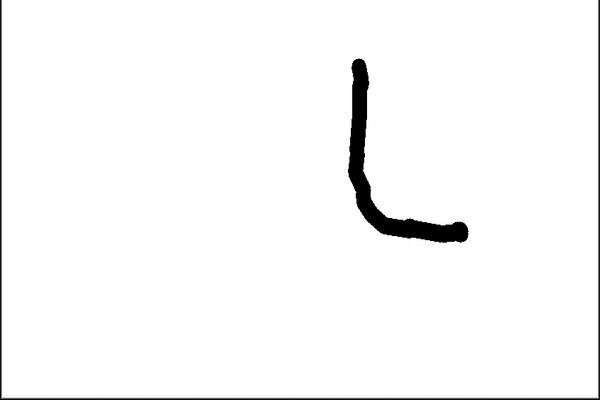L: (341, 49, 473, 251)
